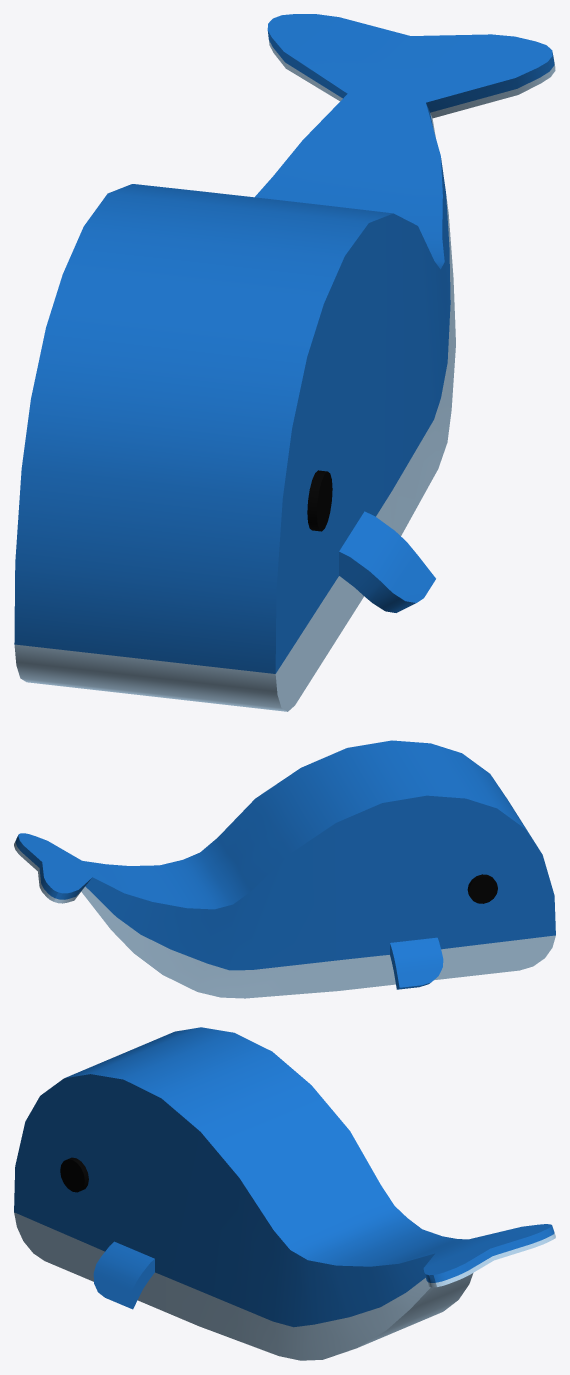
Rendered from whale.glb.
The picture shows the model from 3 angles, top to bottom: view 1: azimuth 30°, elevation 25°; view 2: azimuth 150°, elevation 25°; view 3: azimuth 270°, elevation 25°; orthographic projection. The views are drawn at different scales.
Parts seen in each view (by area): view 1: Cube.126; view 2: Cube.126; view 3: Cube.126.
Boxes of the visible parts, left/top/right/bottom form: Cube.126: left=14, top=14, right=555, bottom=711; Cube.126: left=14, top=740, right=555, bottom=998; Cube.126: left=14, top=1027, right=555, bottom=1360.
Size of the model in its own units: 2.28 by 0.9988 by 2.28.
1 material, 1 textured.
